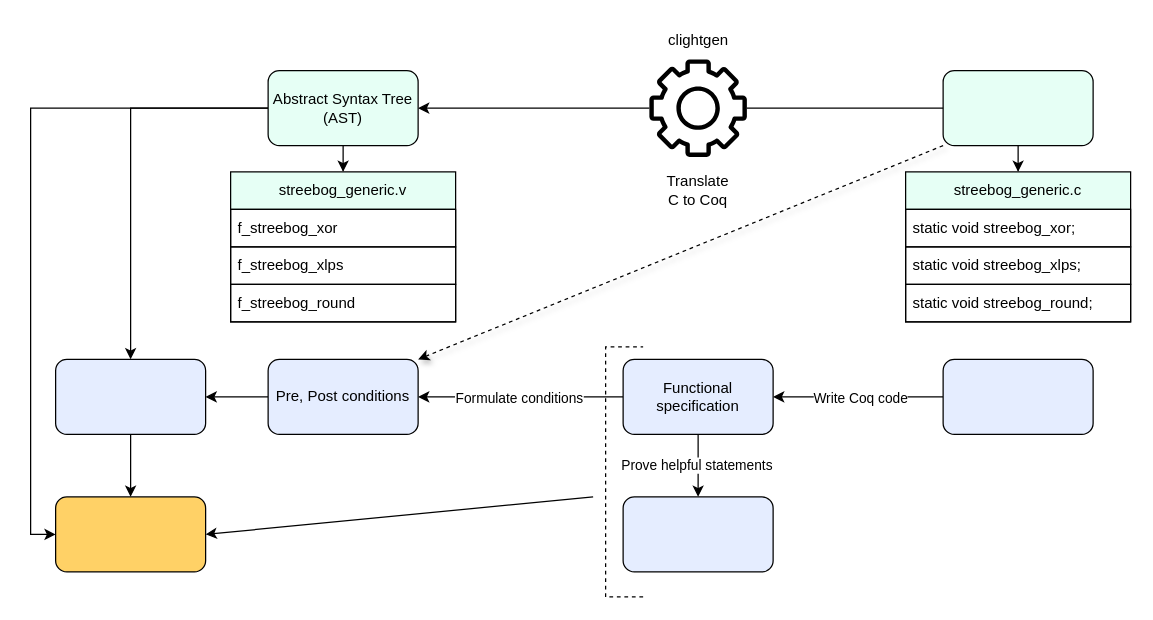
Some shapes in this 1153 by 620 pixel diagram are drawn without their labels. Each missing label, with the centre of its shape:
"C source code" belongs at point (1017, 107).
"Lemmas" belongs at point (697, 534).
"Natural language specification" belongs at point (1017, 396).
"Proof" belongs at point (130, 534).
"{Pre} Func {Post}" belongs at point (130, 396).
